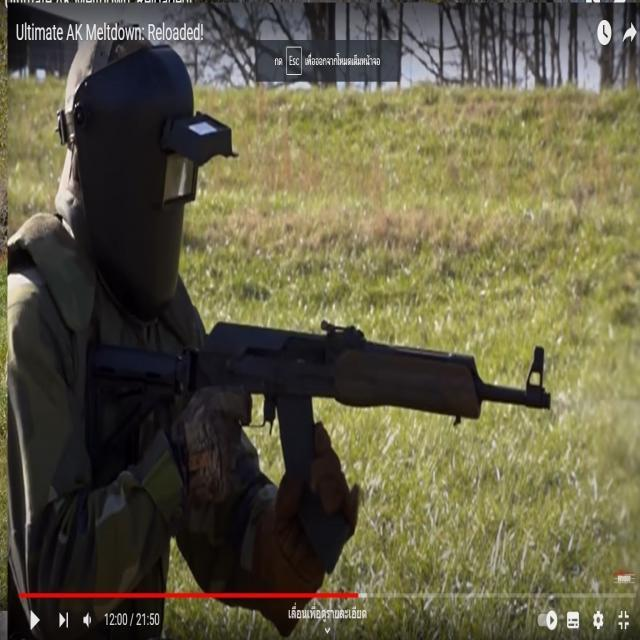ak: (76, 296, 558, 576)
